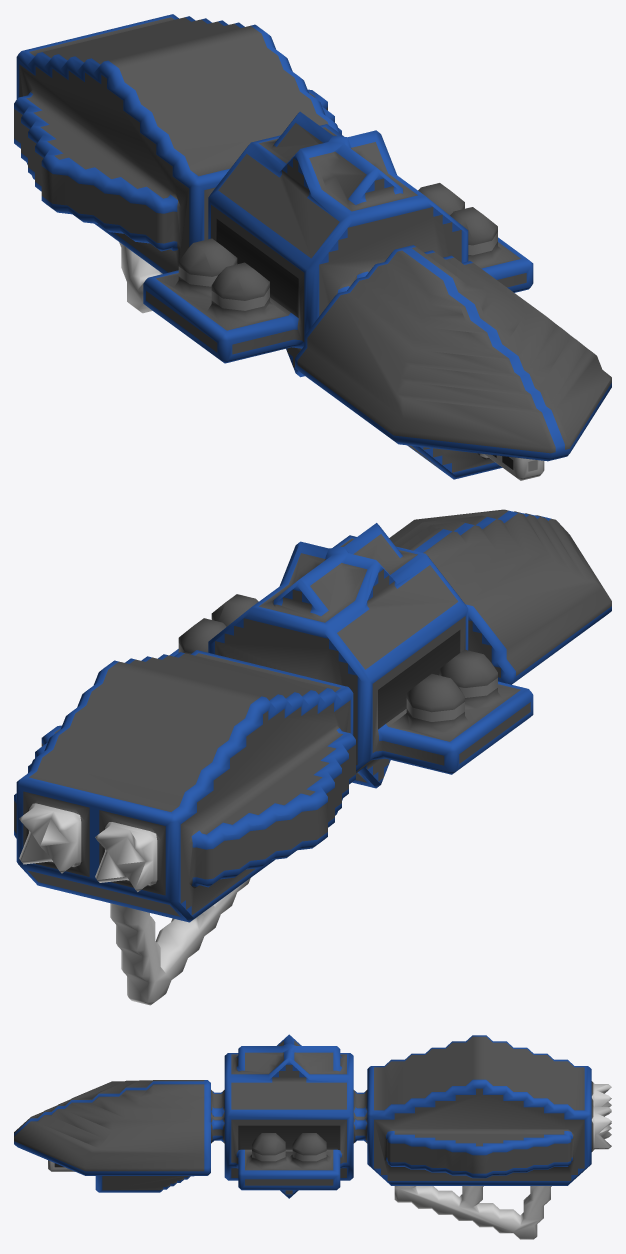
The model's file is diadochi-2-ahriman-class.obj.
The picture shows the model from 3 angles, top to bottom: view 1: azimuth 30°, elevation 25°; view 2: azimuth 150°, elevation 25°; view 3: azimuth 270°, elevation 25°; orthographic projection. The views are drawn at different scales.
Size of the model in its own units: 33 by 31 by 88.
Materials: 1 (1 with a texture image).
